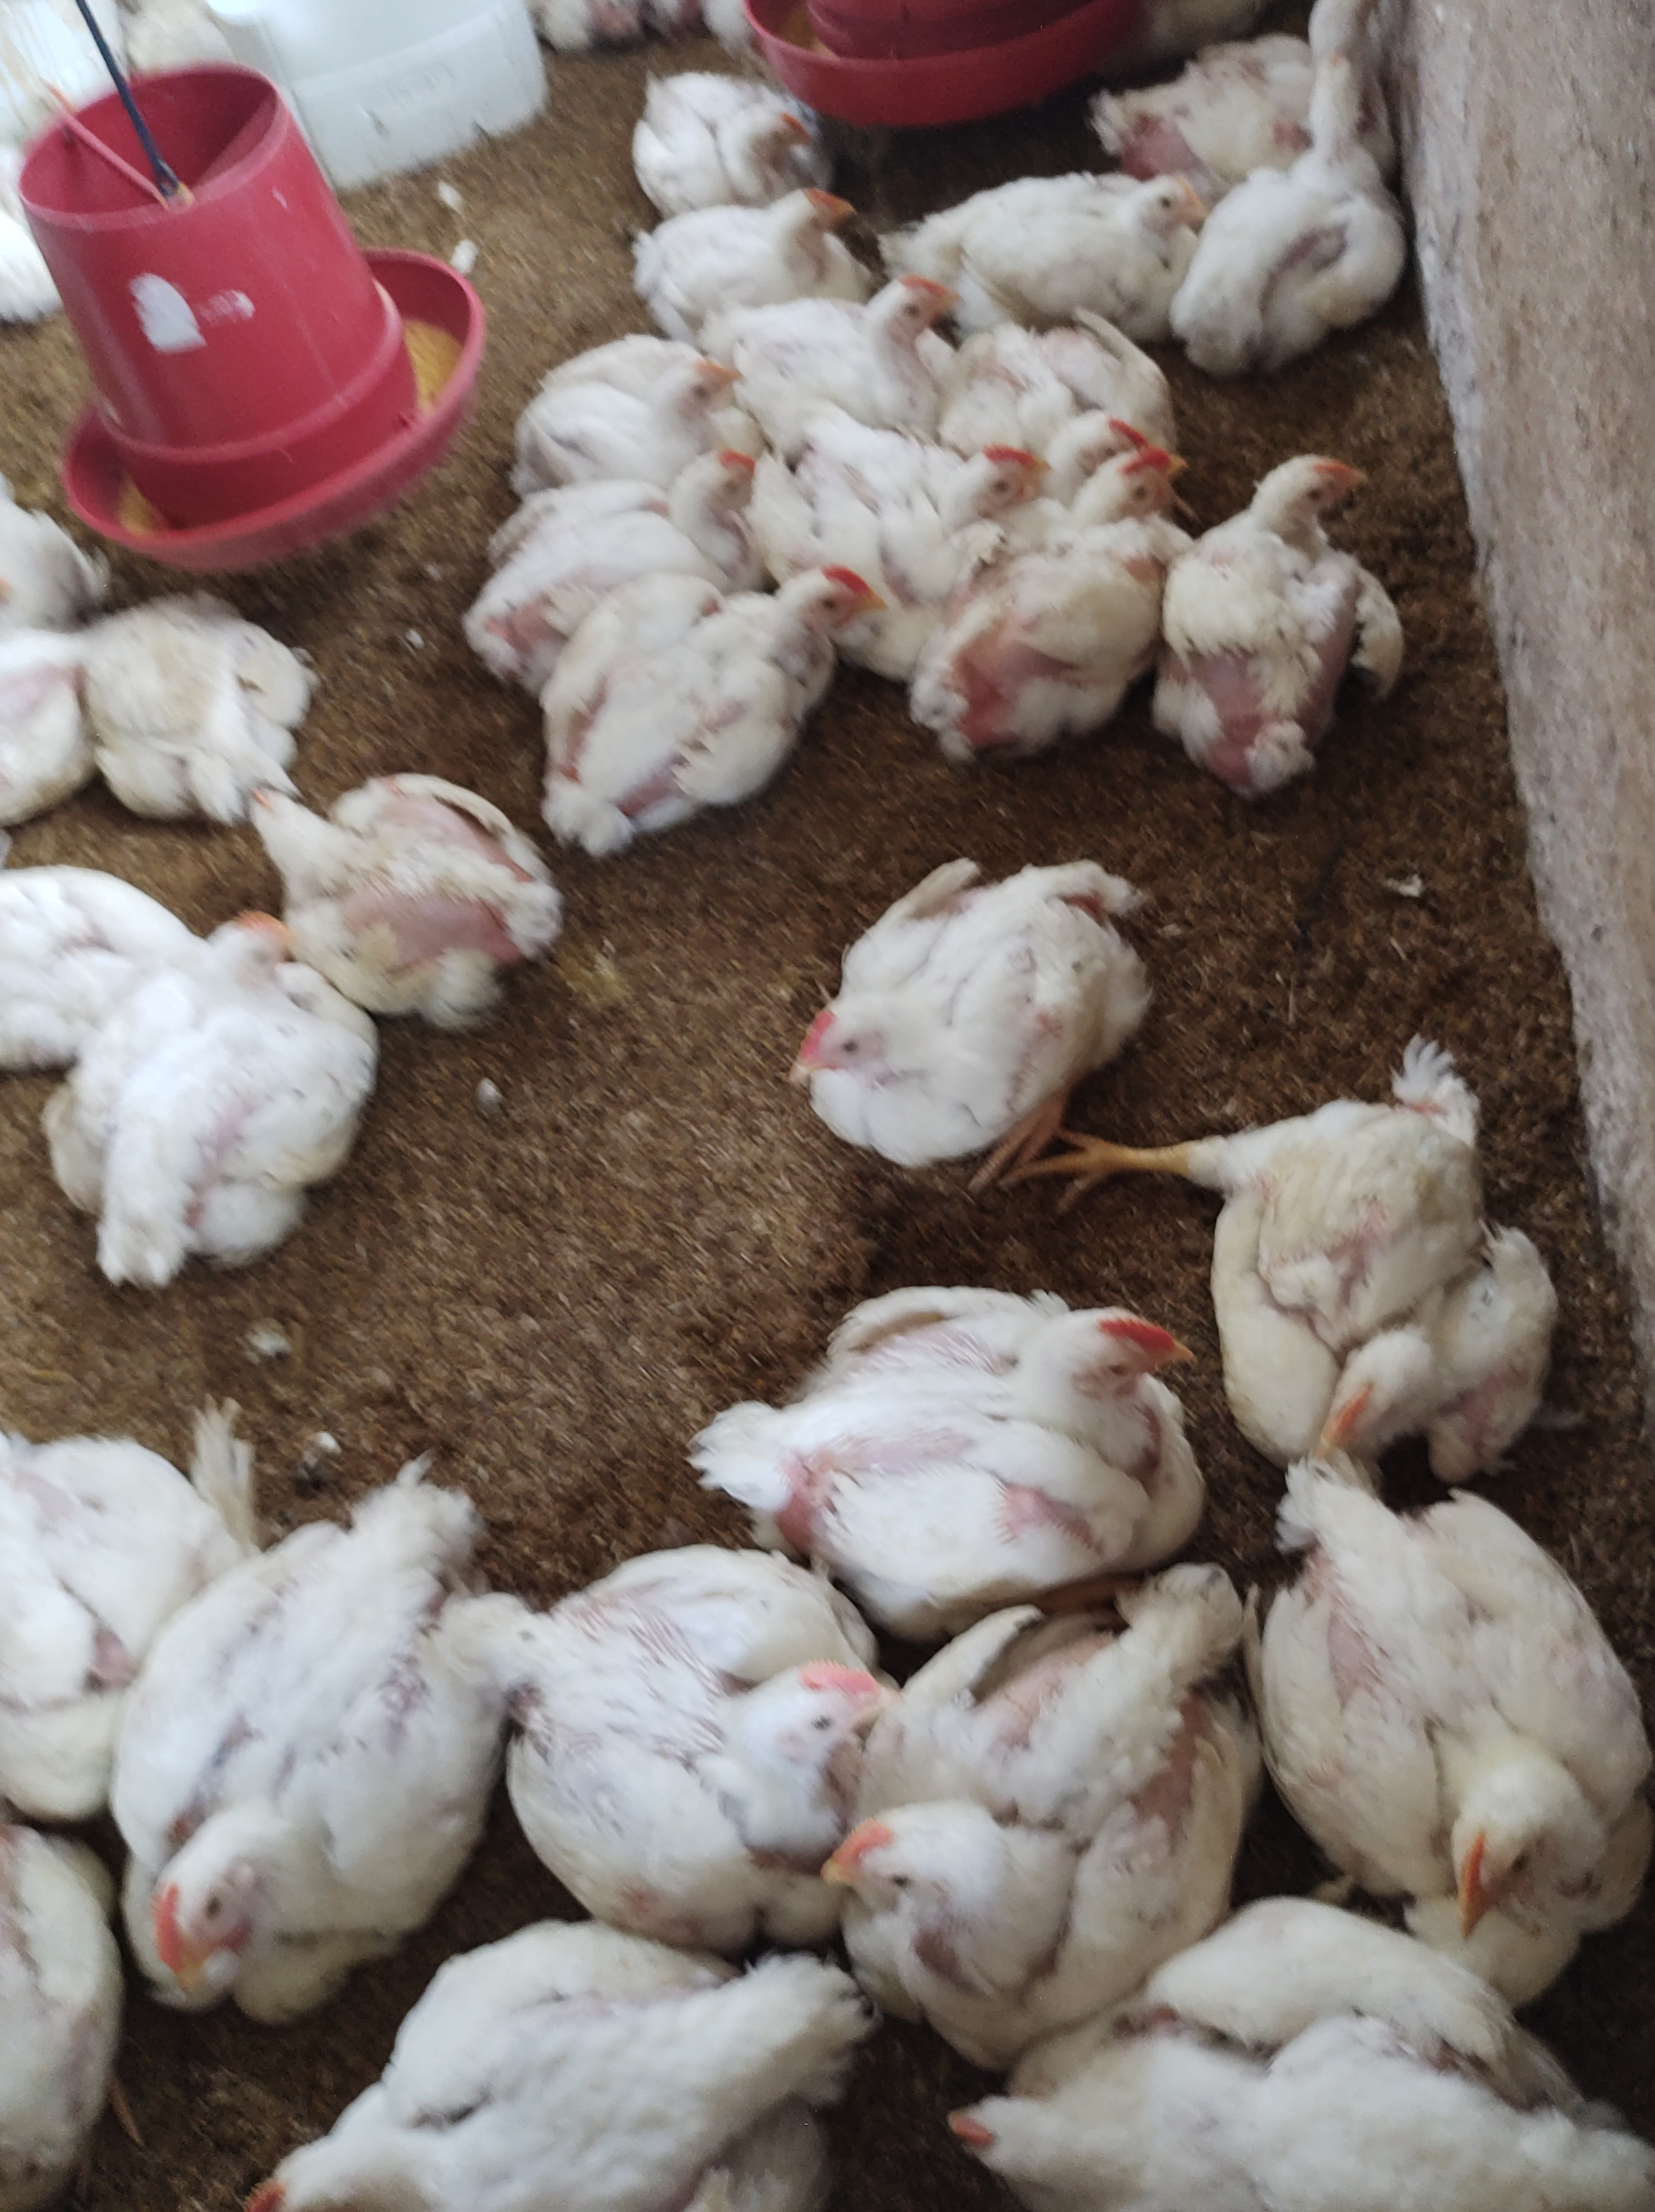Pollos: (125, 1469, 560, 2017), (1269, 1421, 1648, 1902), (1172, 1052, 1594, 1469), (833, 1610, 1318, 1974), (901, 1989, 1655, 2212), (236, 1960, 885, 2212), (765, 1233, 1220, 1581), (754, 854, 1196, 1179), (28, 908, 356, 1320), (191, 743, 595, 1019), (508, 1556, 906, 1824), (549, 548, 874, 856), (1161, 442, 1405, 800), (1186, 40, 1420, 365), (913, 522, 1175, 793), (99, 544, 339, 819), (0, 1829, 139, 2193), (544, 433, 763, 591), (798, 250, 972, 396), (1043, 151, 1206, 299), (626, 68, 812, 191), (544, 330, 749, 433), (715, 162, 871, 290), (1078, 431, 1191, 539), (923, 433, 1048, 527), (1043, 388, 1151, 466)
